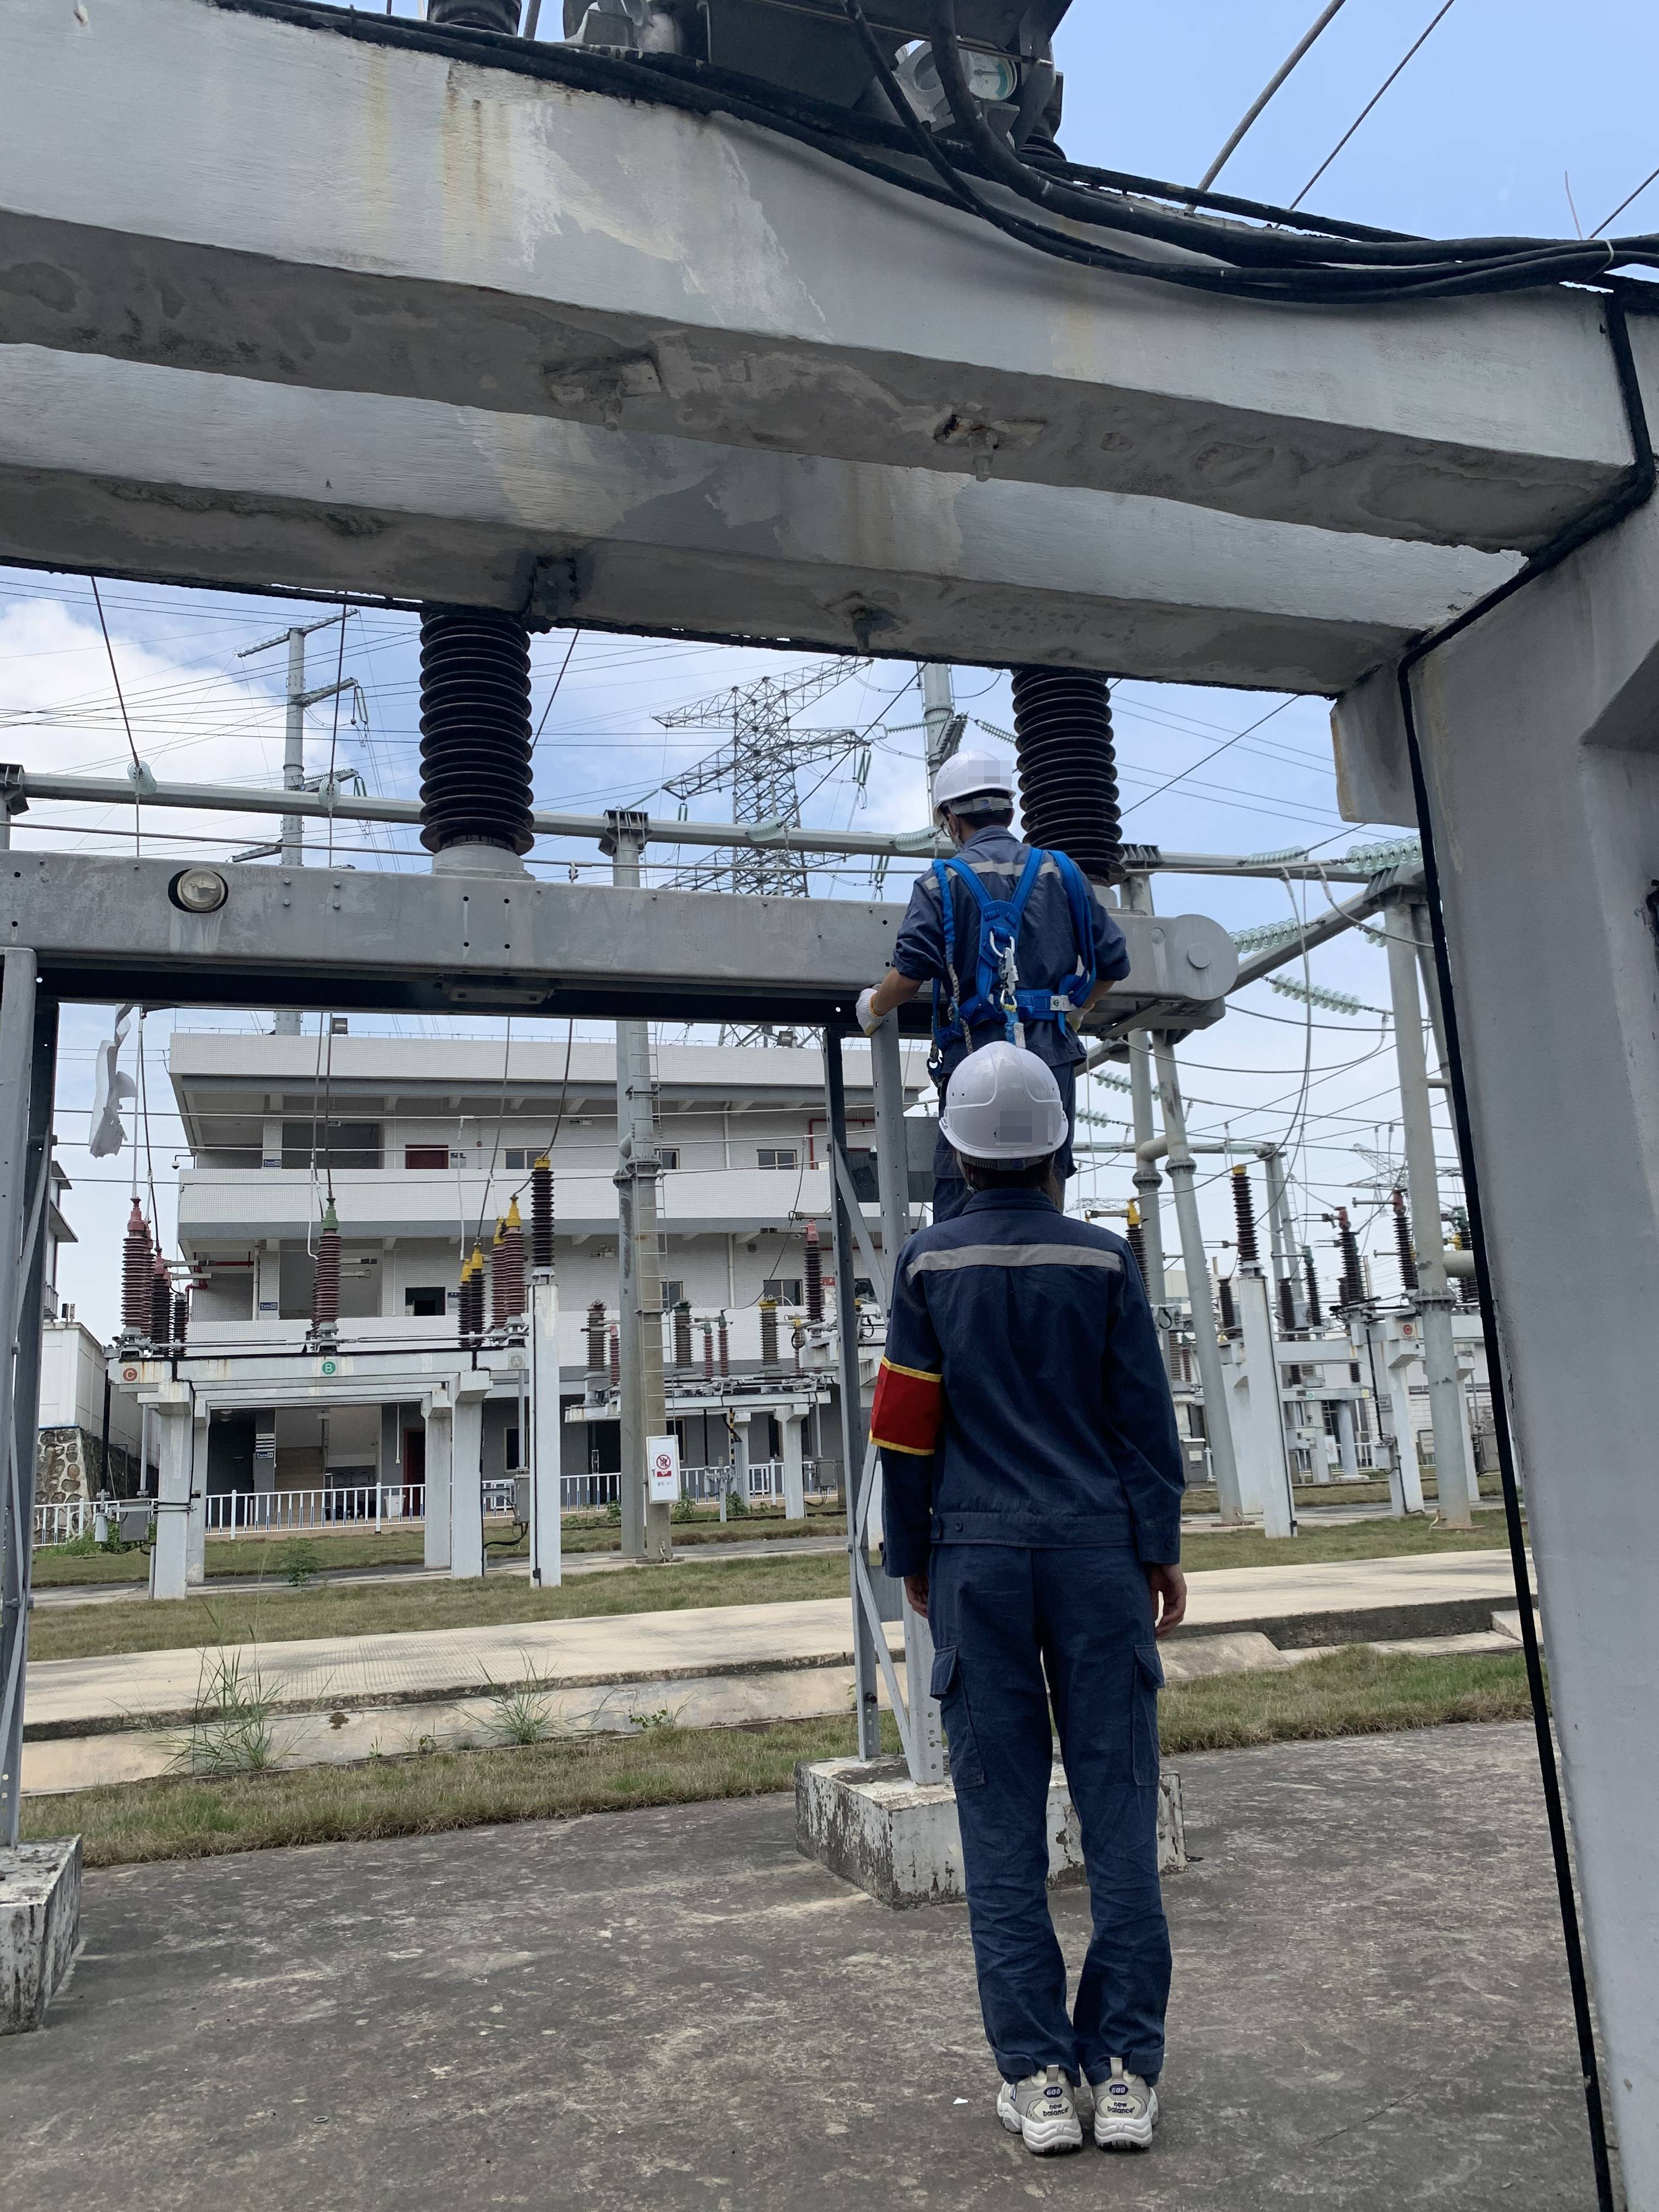downsuit: (924, 1588, 1187, 2074)
upsuit: (850, 1200, 1199, 1557), (897, 840, 1131, 1033)
wrongtop: (856, 942, 939, 1014)
